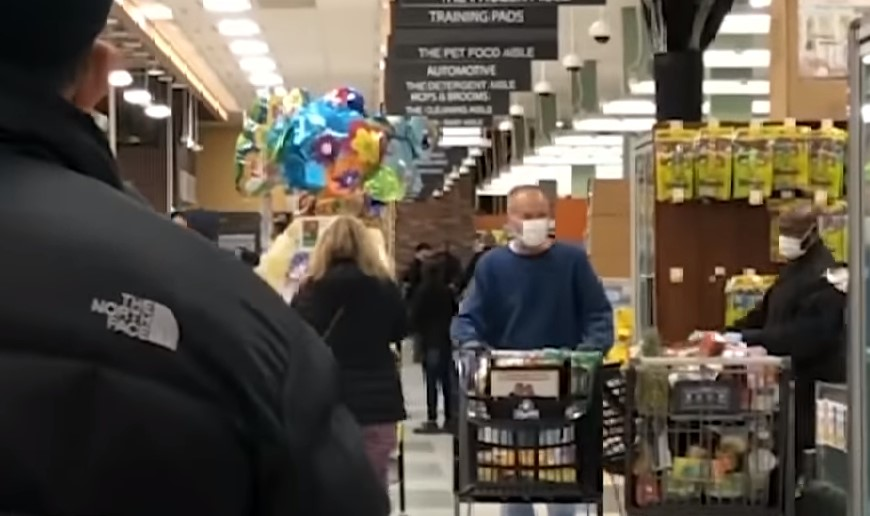face_with_mask: (502, 184, 555, 253), (773, 198, 830, 260)
